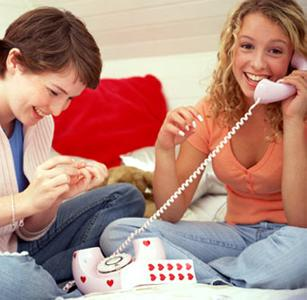person: (98, 3, 307, 290)
